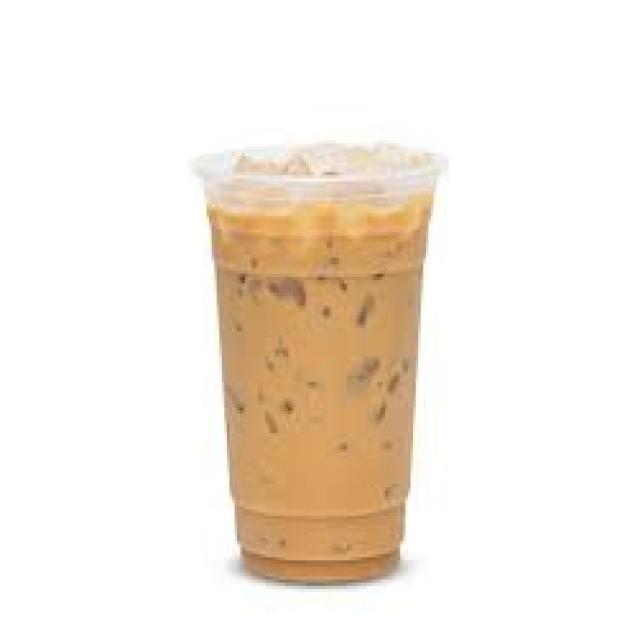bottle: (196, 144, 445, 581)
